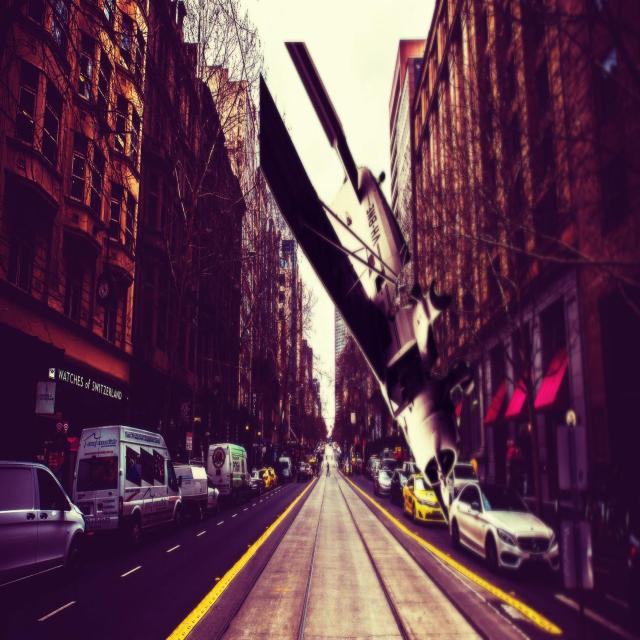airplane: (258, 38, 476, 526)
